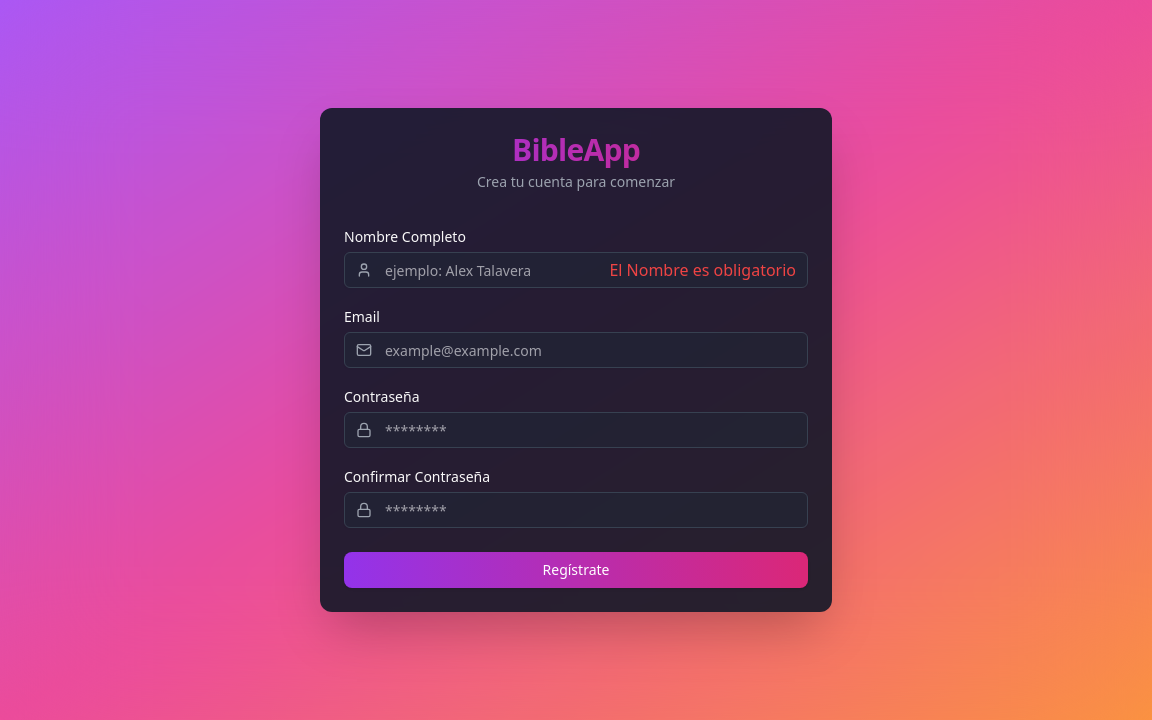
Test case: Componente de Registro › muestra error cuando las contraseñas no coinciden
Type "John Doe" into the field labelled "Nombre Completo".
click(576, 270); type("John Doe")  # box [344,252,808,288]
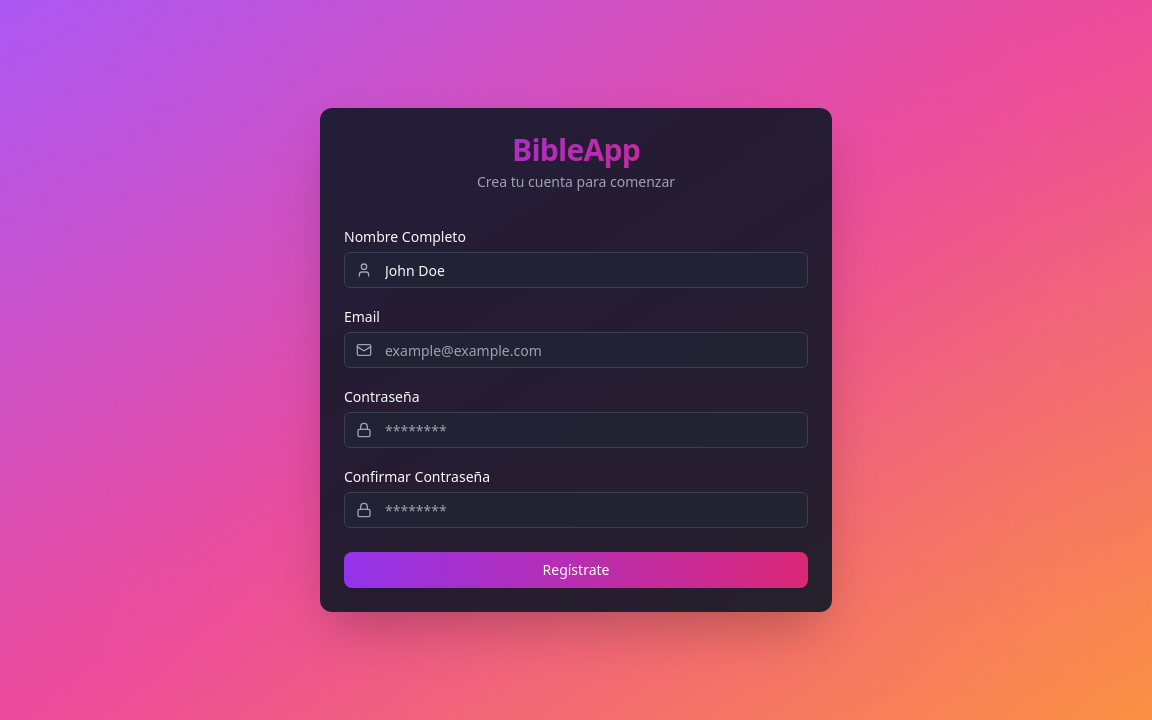
Type "john@example.com" into the field labelled "Email".
click(576, 350); type("john@example.com")  # box [344,332,808,368]
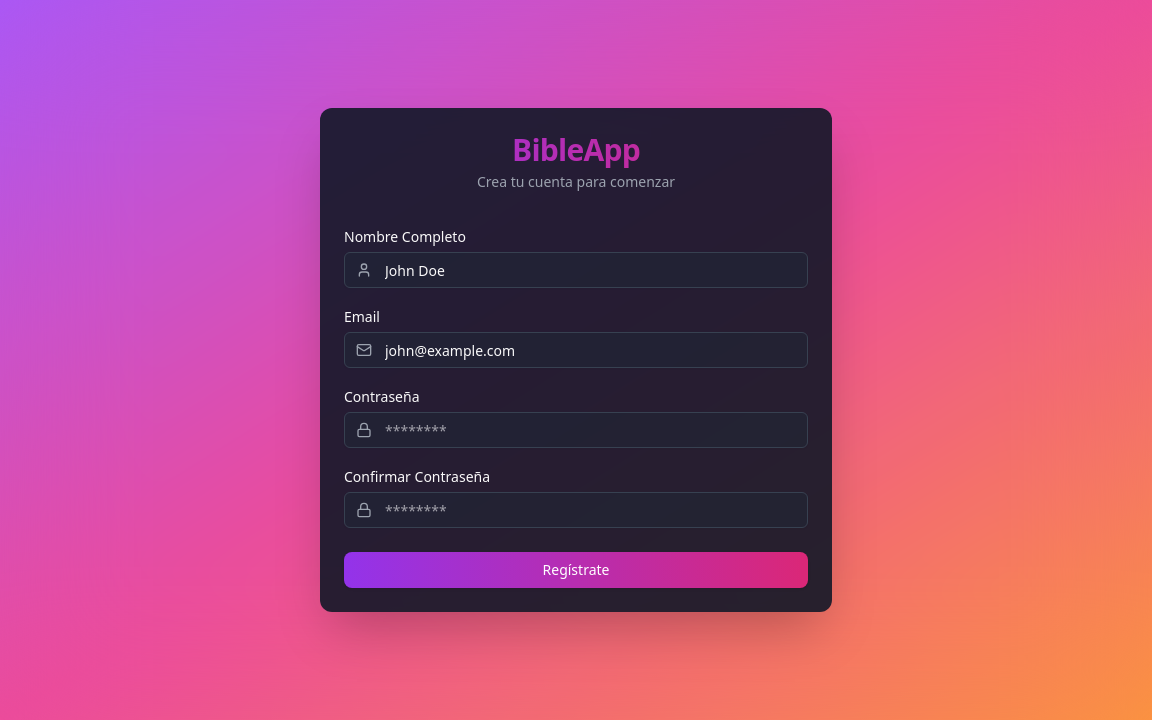
Type "password123" into the password field labelled "Contraseña".
click(576, 430); type("password123")  # box [344,412,808,448]
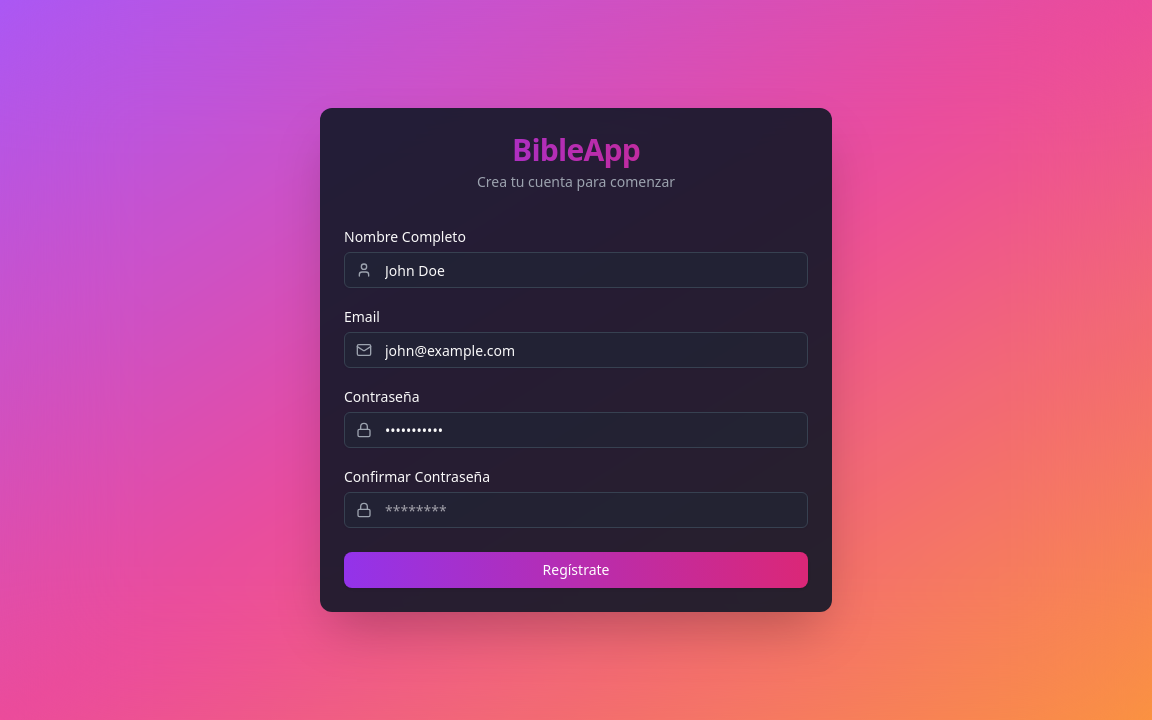
Type "password456" into the password field labelled "Confirmar Contraseña".
click(576, 510); type("password456")  # box [344,492,808,528]
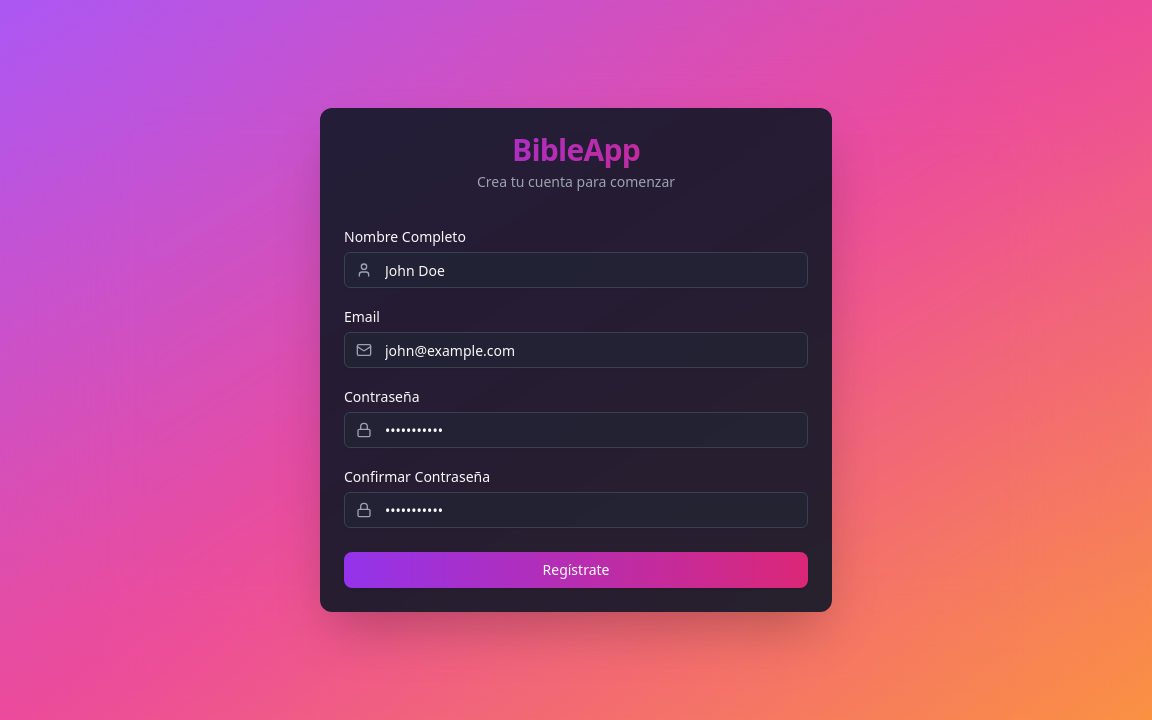
Click the button "Regístrate".
click(576, 570)  # box [344,552,808,588]
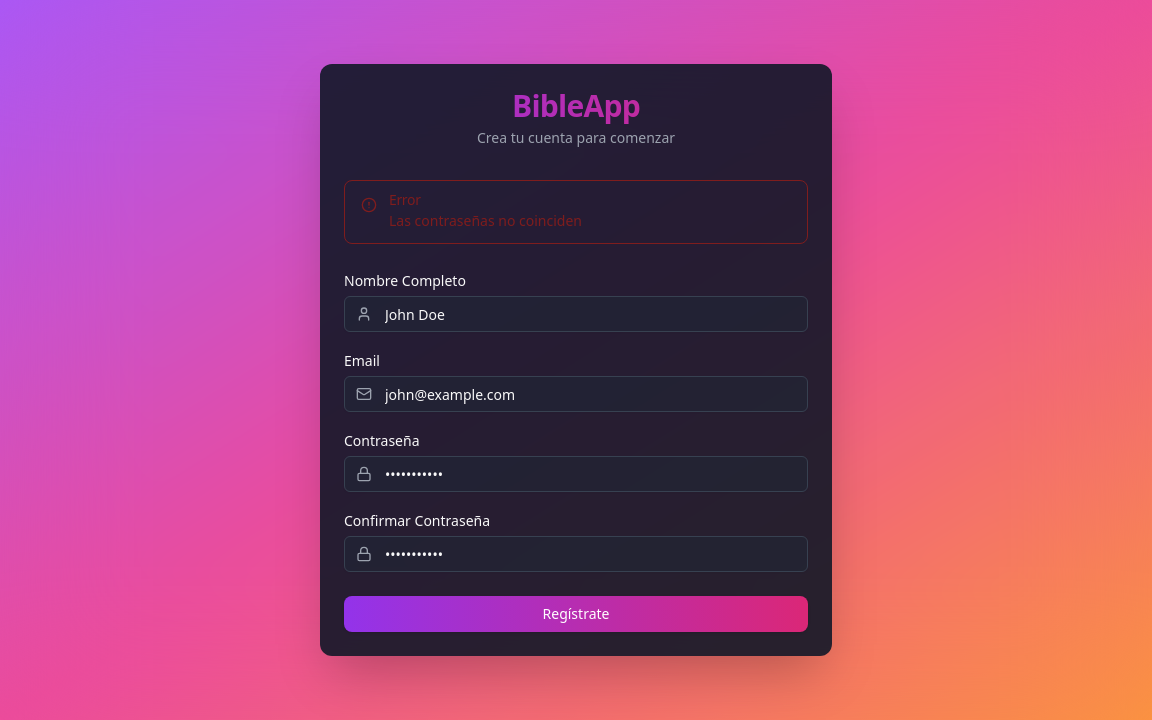
Check: the text "Las contraseñas no coinciden" is shown, box [389,211,582,230]
